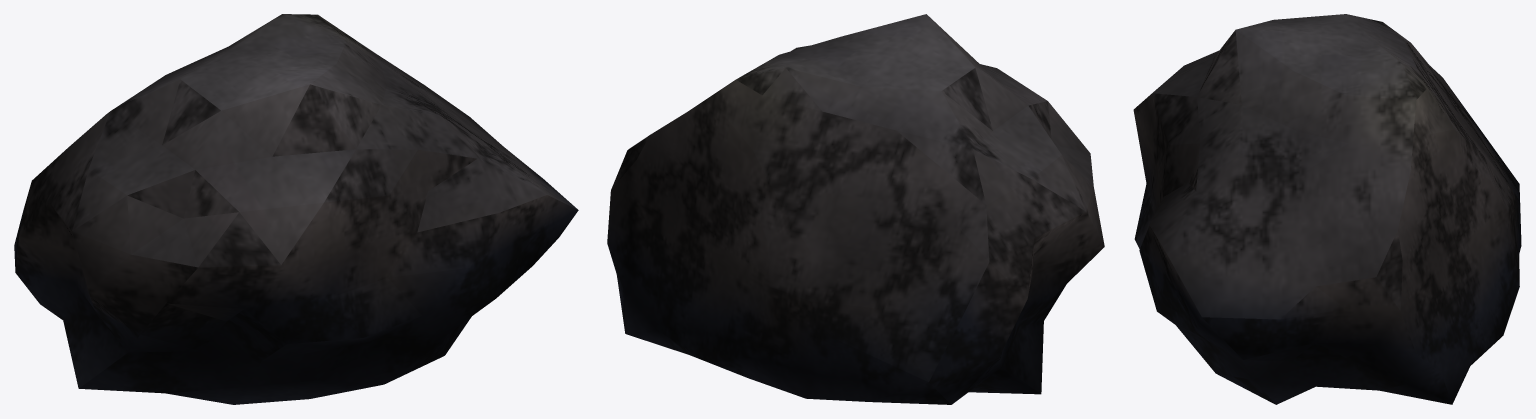
The model's file is boulder_c.glb.
The picture shows the model from 3 angles, left to right: view 1: azimuth 30°, elevation 25°; view 2: azimuth 150°, elevation 25°; view 3: azimuth 270°, elevation 25°; orthographic projection. The views are drawn at different scales.
Parts seen in each view (by area): view 1: boulder_c; view 2: boulder_c; view 3: boulder_c.
Boxes of the visible parts, box(x1,y1,x2,y2) form: boulder_c: box(14, 14, 578, 404); boulder_c: box(607, 14, 1104, 404); boulder_c: box(1133, 14, 1521, 404).
Size of the model in its own units: 1.22 by 0.8612 by 0.9219.
1 material, 1 textured.
